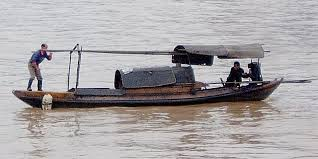boat: (11, 41, 312, 110)
